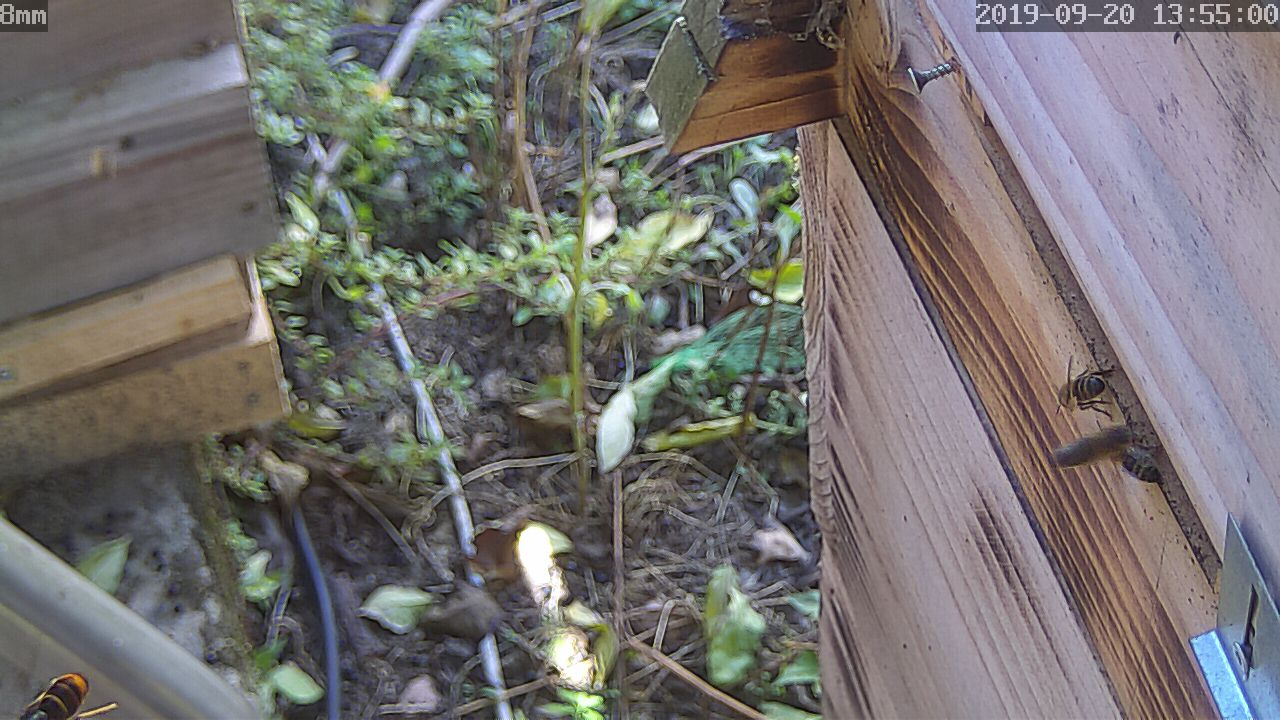bee: (1053, 358, 1114, 410), (1116, 451, 1171, 482)
hornet: (11, 661, 114, 717)
